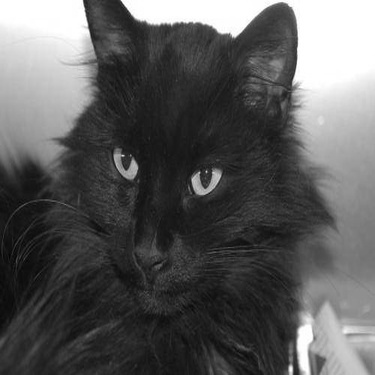cat: (3, 4, 333, 372)
